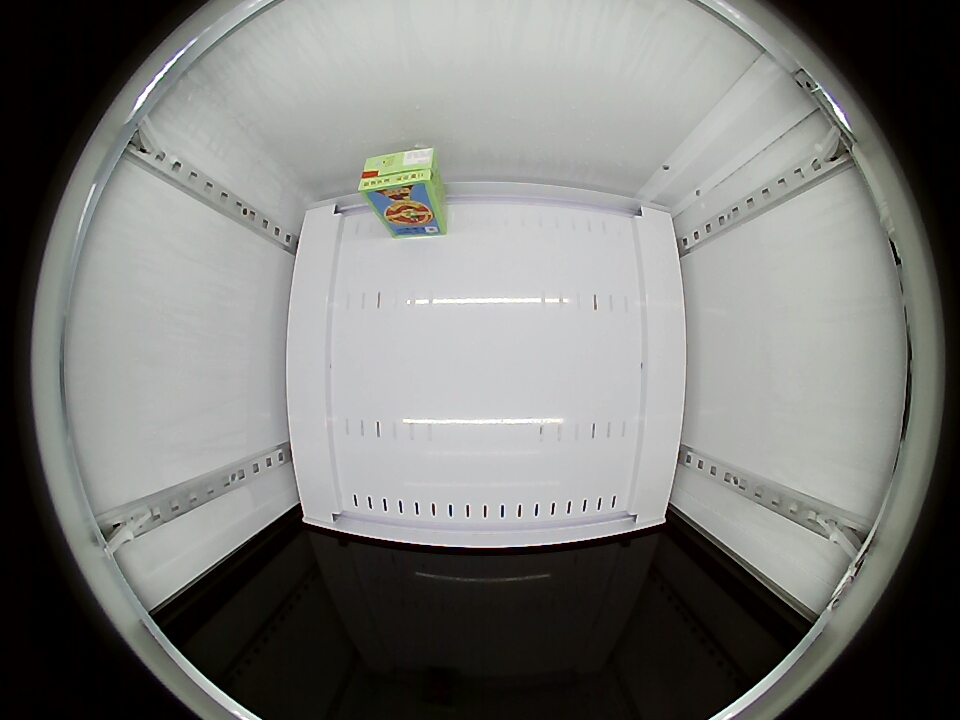wanglaoji: (358, 146, 440, 201)
